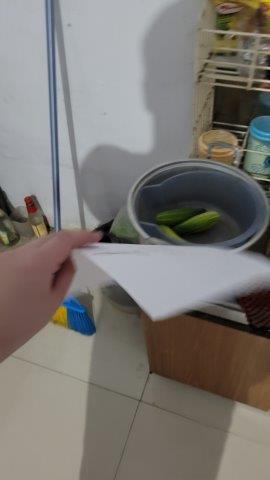kertas: (64, 238, 270, 332)
